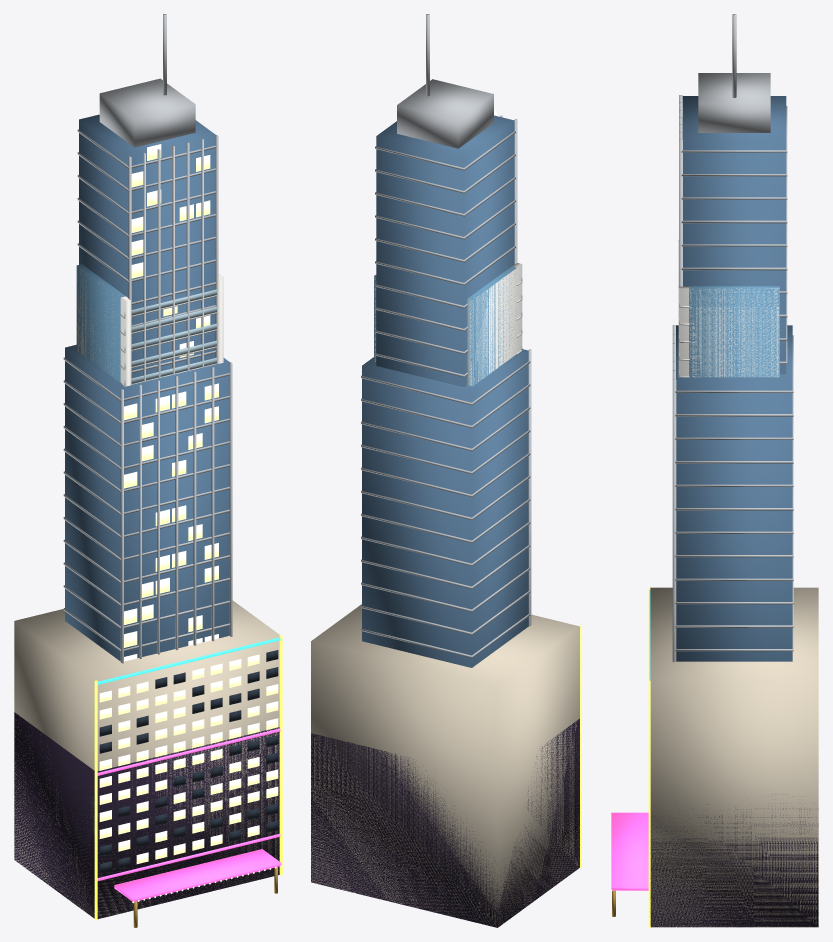
File: kit_batiments.glb
The picture shows the model from 3 angles, left to right: view 1: azimuth 30°, elevation 25°; view 2: azimuth 150°, elevation 25°; view 3: azimuth 270°, elevation 25°; orthographic projection. The views are drawn at different scales.
Parts seen in each view (by area): view 1: tour_a, casino_a, casino_b, tour_b, residence_b; view 2: casino_b, tour_a, tour_b, casino_a, residence_b; view 3: casino_b, tour_a, tour_b, casino_a, residence_b.
Part boxes in pixels (left/top/right/bottom): tour_a: left=63, top=344, right=232, bottom=663; casino_a: left=14, top=712, right=282, bottom=927; casino_b: left=14, top=600, right=282, bottom=919; tour_b: left=77, top=14, right=218, bottom=384; residence_b: left=76, top=264, right=223, bottom=386; casino_b: left=311, top=604, right=581, bottom=926; tour_a: left=361, top=349, right=531, bottom=667; tour_b: left=375, top=14, right=517, bottom=387; casino_a: left=311, top=718, right=581, bottom=927; residence_b: left=374, top=263, right=522, bottom=386; casino_b: left=648, top=587, right=818, bottom=927; tour_a: left=672, top=325, right=793, bottom=661; tour_b: left=679, top=14, right=787, bottom=374; casino_a: left=610, top=801, right=818, bottom=927; residence_b: left=678, top=240, right=779, bottom=377.
Bounding box in the file's own units: 34.4 × 149 × 32.16.
